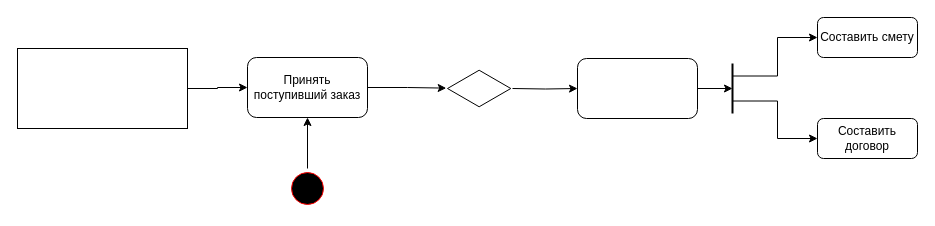
Some shapes in this 935 by 226 pixel diagram are drawn without their labels. Here are the shapes that lost their labels. From the top down, the box of each, then its label:
(16, 48, 188, 128): Поступивший заказ на добычу гранитного щебня
(576, 58, 698, 118): Заполнить список услуг
